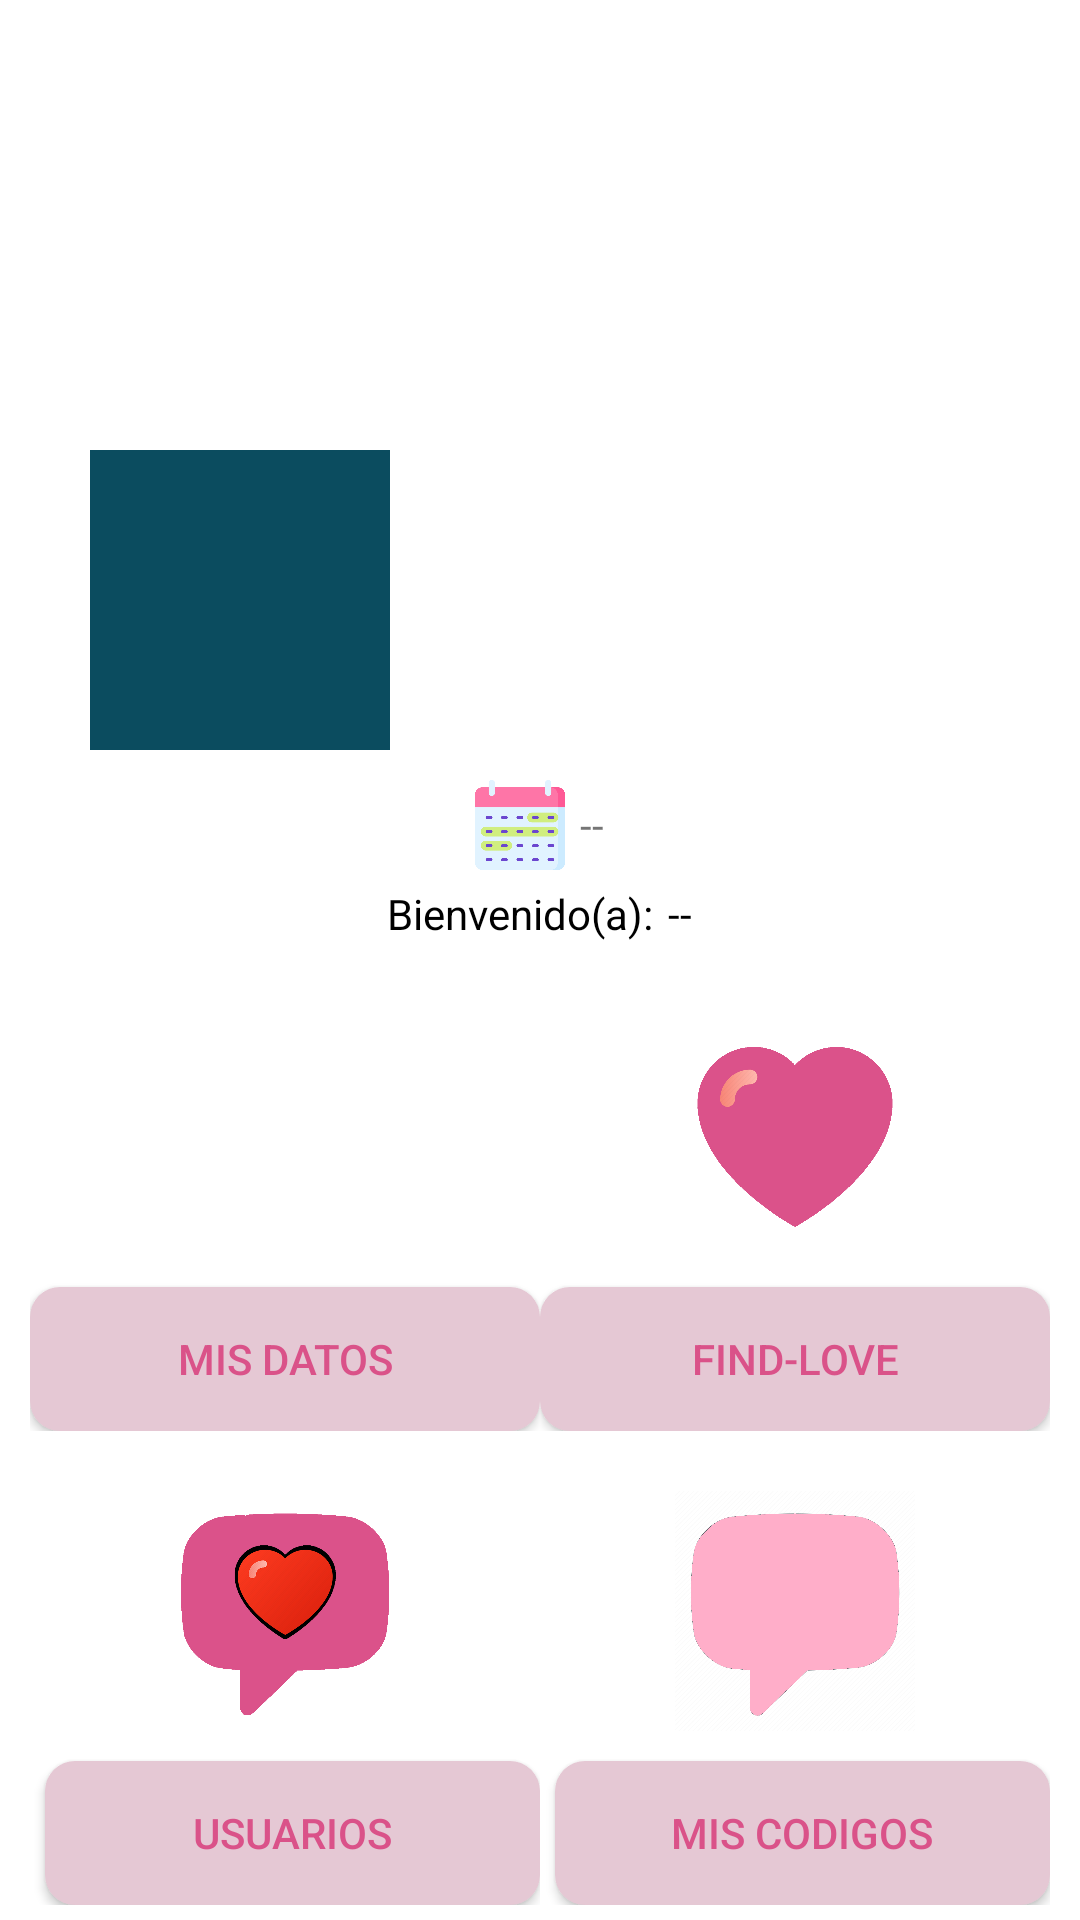

Where icons sit on this 1080 x 1920 app screen, as (x1, y1, x2, y2):
chats: (181, 1513, 389, 1715)
corazon: (697, 1047, 893, 1227)
fecha: (475, 780, 565, 870)
